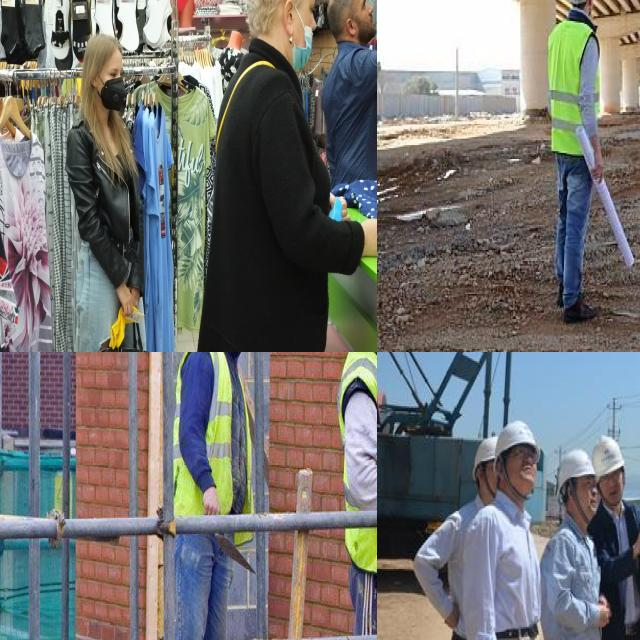face_nomask: (502, 443, 538, 500), (568, 474, 599, 525), (599, 468, 625, 504)
hand_noglove: (202, 488, 220, 531), (590, 153, 607, 186), (598, 597, 612, 635), (630, 520, 640, 565)
head_helmet: (590, 430, 624, 476), (555, 448, 592, 479), (497, 418, 535, 443), (475, 437, 497, 461)
person: (174, 352, 255, 640), (546, 0, 608, 325), (486, 419, 542, 640), (338, 352, 377, 640), (491, 422, 541, 640), (547, 448, 597, 640), (593, 438, 640, 640), (441, 425, 481, 640)
shoes: (558, 296, 598, 328)
vest: (171, 352, 254, 544), (336, 352, 377, 574), (548, 18, 602, 154)
